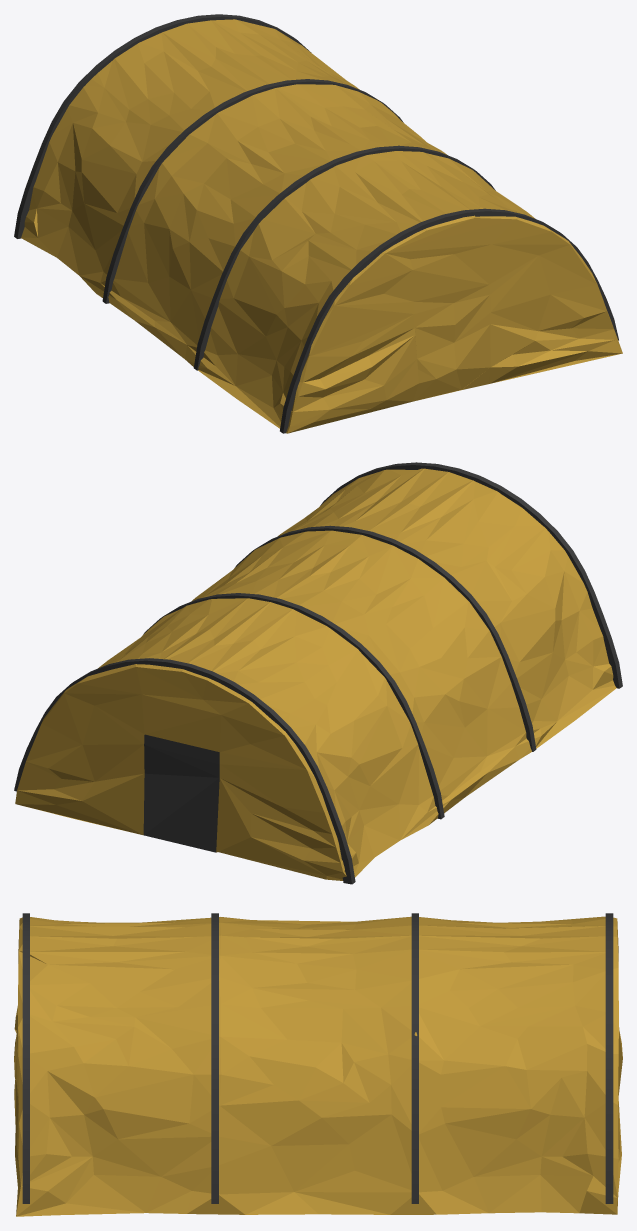
Rendered from model_military_tent_yellow.fbx.
3 views of the same model, one above another, from view 1: azimuth 30°, elevation 25°; view 2: azimuth 150°, elevation 25°; view 3: azimuth 270°, elevation 25° (orthographic). The views are drawn at different scales.
Parts seen in each view (by area): view 1: model_military_tent_yellow; view 2: model_military_tent_yellow; view 3: model_military_tent_yellow.
Boxes of the visible parts, x1,y1,x2,y2 form: model_military_tent_yellow: (14,14,622,433); model_military_tent_yellow: (14,462,622,884); model_military_tent_yellow: (14,913,622,1216).
Size of the model in its own units: 749 by 377 by 1068.
1 material, 1 textured.
